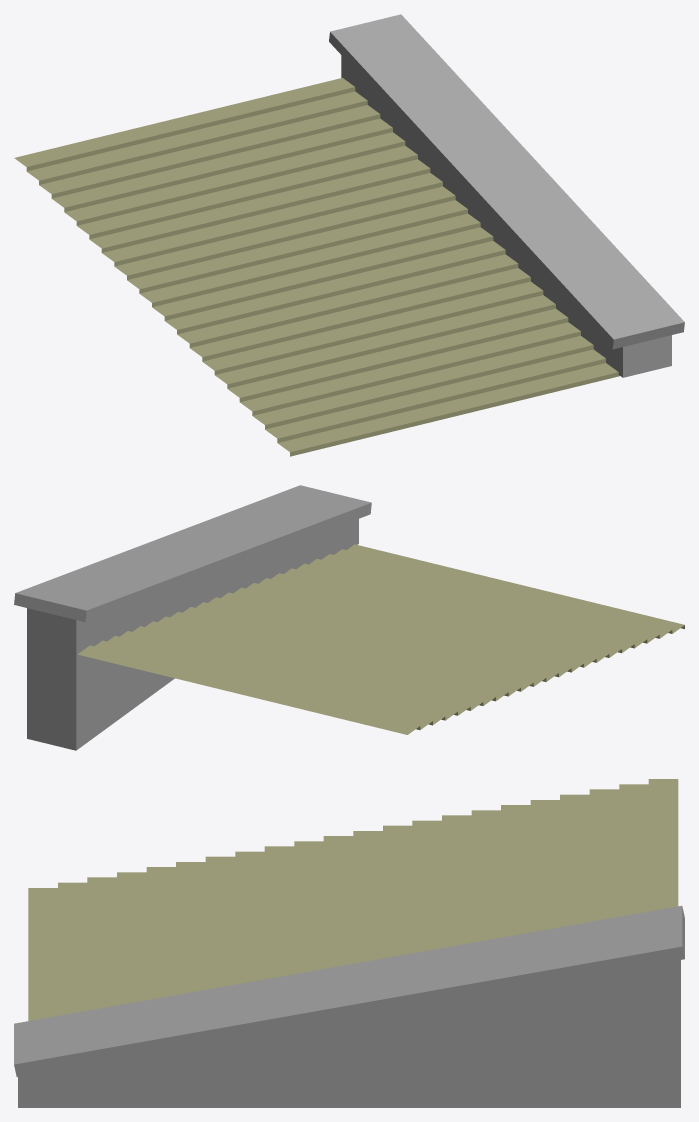
The model's file is StairBorder.fbx.
The picture shows the model from 3 angles, top to bottom: view 1: azimuth 30°, elevation 25°; view 2: azimuth 150°, elevation 25°; view 3: azimuth 270°, elevation 25°; orthographic projection. The views are drawn at different scales.
Parts seen in each view (by area): view 1: Stairs, Border; view 2: Stairs, Border; view 3: Border, Stairs.
Part boxes in pixels (box(x1,y1,x2,y2)): Stairs: box(14, 78, 619, 456); Border: box(329, 14, 684, 377); Stairs: box(77, 544, 684, 734); Border: box(14, 485, 371, 750); Border: box(14, 905, 684, 1107); Stairs: box(28, 779, 678, 1020).
Size of the model in its own units: 0.0421 by 0.0149 by 0.0534.
